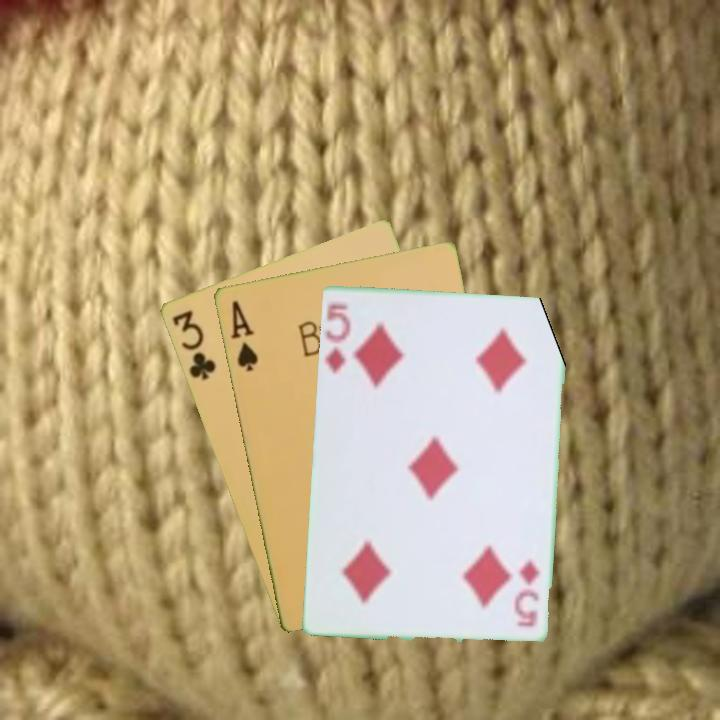3c: (168, 306, 219, 383)
5d: (321, 300, 354, 376), (511, 555, 542, 630)
As: (227, 296, 261, 374)
